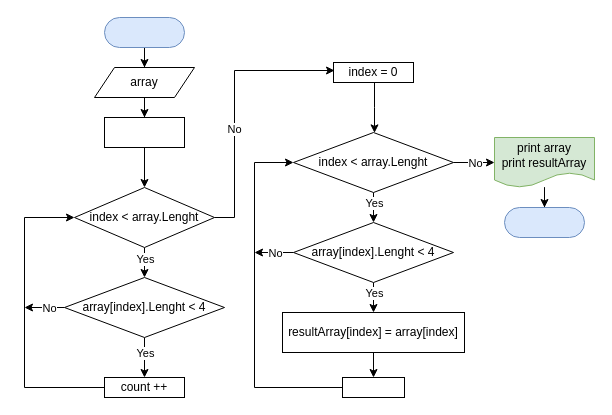
Image size: 612x415. Some labels were removed from this diagram. Each missing label, with the centre of its shape:
"count = 0 index = 0" goes at [144,132].
"End" goes at [544,222].
"index ++" goes at [373,387].
"Start" goes at [144,32].
